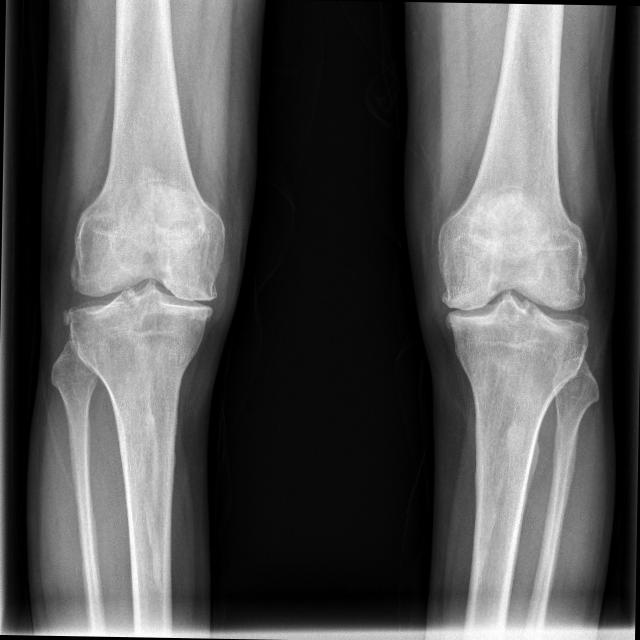Knee: (60, 198, 226, 374), (431, 214, 588, 377)
